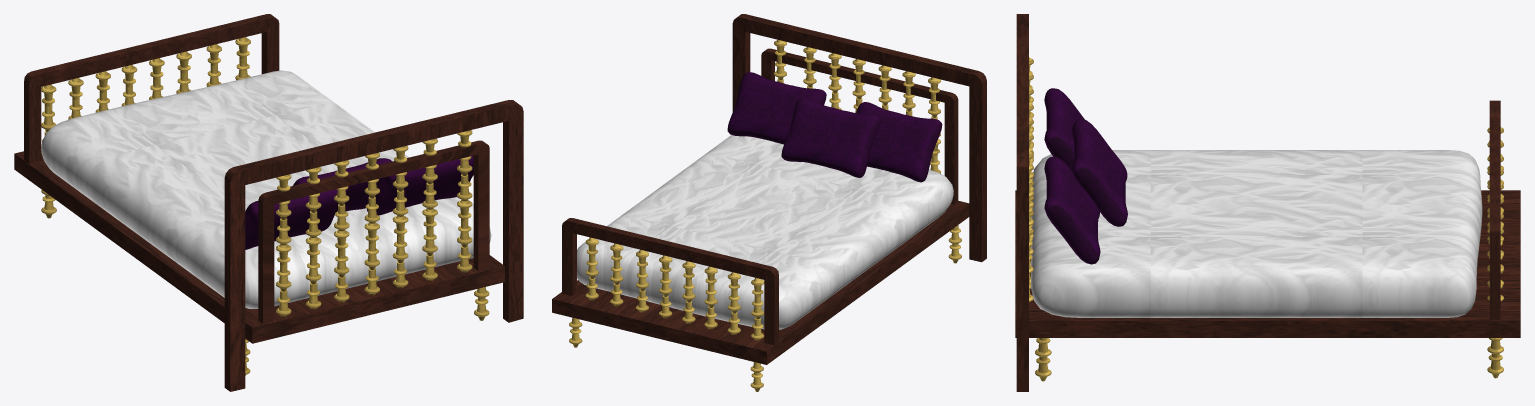
Rendered from Bed for Butler.fbx.
3 views of the same model, side by side, from view 1: azimuth 30°, elevation 25°; view 2: azimuth 150°, elevation 25°; view 3: azimuth 270°, elevation 25° (orthographic). The views are drawn at different scales.
Visible parts, largest first — view 1: polySurface596, pCube1110, pCube1105, pCube1111, pCube1109, polySurface643, polySurface642, group146_group140_polySurface614, group141_group140_polySurface614, group144_group140_polySurface614, group139_polySurface614, group142_group140_polySurface614 (+10 smaller); view 2: polySurface596, pCube1105, pCube1110, polySurface644, pCube1109, polySurface642, polySurface643, pCube1111, polySurface630, polySurface633, polySurface602, polySurface599 (+11 smaller); view 3: polySurface596, pCube1105, pCube1110, polySurface644, polySurface643, pCube1109, polySurface642, polySurface609, polySurface604.
Part boxes in pixels (bbox=[...]): polySurface596: bbox=[41, 70, 491, 308]; pCube1110: bbox=[224, 100, 523, 391]; pCube1105: bbox=[14, 151, 504, 343]; pCube1111: bbox=[258, 140, 489, 323]; pCube1109: bbox=[24, 14, 279, 163]; polySurface643: bbox=[367, 155, 473, 215]; polySurface642: bbox=[245, 189, 346, 249]; group146_group140_polySurface614: bbox=[276, 174, 291, 316]; group141_group140_polySurface614: bbox=[422, 138, 437, 280]; group144_group140_polySurface614: bbox=[334, 160, 349, 302]; group139_polySurface614: bbox=[457, 130, 472, 272]; group142_group140_polySurface614: bbox=[392, 145, 408, 288]; polySurface596: bbox=[577, 135, 953, 329]; pCube1105: bbox=[552, 201, 969, 364]; pCube1110: bbox=[732, 14, 986, 262]; polySurface644: bbox=[781, 97, 880, 177]; pCube1109: bbox=[562, 218, 778, 345]; polySurface642: bbox=[856, 102, 942, 182]; polySurface643: bbox=[727, 72, 826, 144]; pCube1111: bbox=[761, 48, 958, 204]; polySurface630: bbox=[682, 261, 695, 323]; polySurface633: bbox=[704, 266, 717, 329]; polySurface602: bbox=[585, 237, 598, 300]; polySurface599: bbox=[751, 278, 764, 340]; polySurface596: bbox=[1031, 150, 1482, 317]; pCube1105: bbox=[1015, 190, 1520, 337]; pCube1110: bbox=[1016, 14, 1028, 391]; polySurface644: bbox=[1072, 119, 1127, 226]; polySurface643: bbox=[1044, 156, 1100, 264]; pCube1109: bbox=[1489, 100, 1500, 319]; polySurface642: bbox=[1044, 88, 1084, 169]; polySurface609: bbox=[1035, 338, 1051, 381]; polySurface604: bbox=[1487, 338, 1503, 378].
Size of the model in its own units: 267 by 191 by 375.
